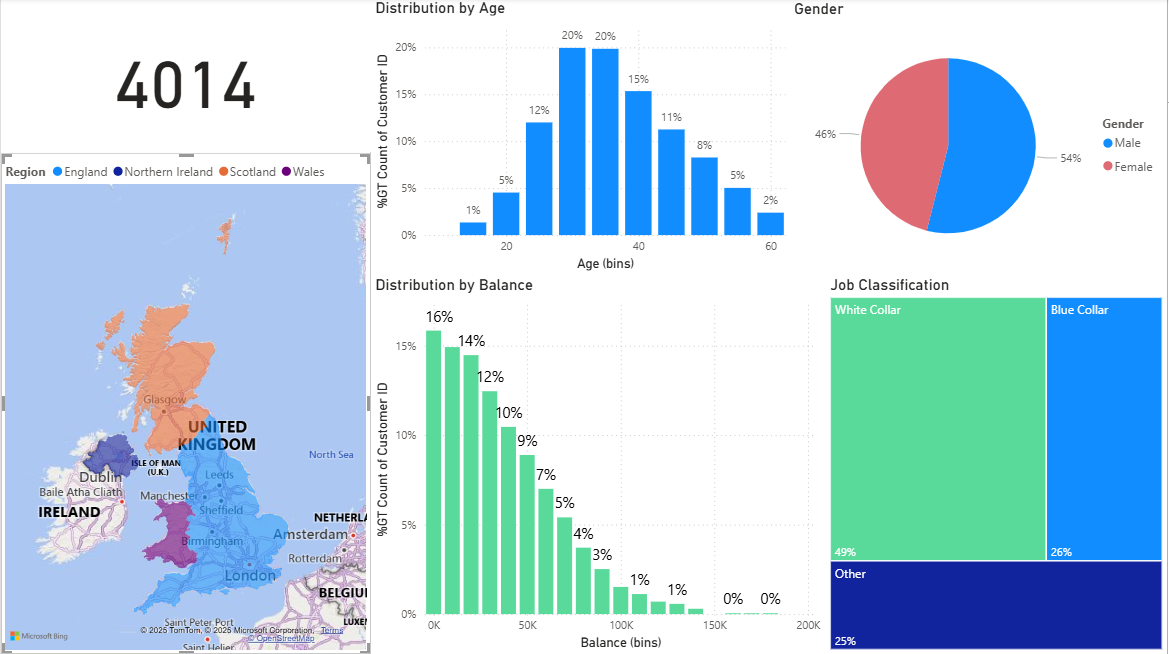

This screenshot's page, from the dashboard's own definition file:
{"tool":"powerbi","page":{"name":"BI report","canvas":[1280,720],"ordinal":5},"visuals":[{"type":"filledMap","fields":{"Series":["S05-CreatingInteractiveBIReport UK-Bank-Customers.Region"],"Category":["S05-CreatingInteractiveBIReport UK-Bank-Customers.Region"]},"box":[0,170,405.7,550],"z":0},{"type":"card","fields":{"Values":["CountNonNull(S05-CreatingInteractiveBIReport UK-Bank-Customers.Customer ID)"]},"box":[0,0,405.7,170],"z":1000},{"type":"pieChart","title":"Gender","fields":{"Category":["S05-CreatingInteractiveBIReport UK-Bank-Customers.Gender"],"Y":["CountNonNull(S05-CreatingInteractiveBIReport UK-Bank-Customers.Customer ID)"]},"box":[865.7,1.4,414.3,302.9],"z":2000},{"type":"columnChart","title":"Distribution by Age","fields":{"Category":["S05-CreatingInteractiveBIReport UK-Bank-Customers.Age (bins)"],"Y":["CountNonNull(S05-CreatingInteractiveBIReport UK-Bank-Customers.Customer ID)"]},"box":[405.7,0,460,304.3],"z":3000},{"type":"columnChart","title":"Distribution by Balance","fields":{"Category":["S05-CreatingInteractiveBIReport UK-Bank-Customers.Balance (bins)"],"Y":["CountNonNull(S05-CreatingInteractiveBIReport UK-Bank-Customers.Customer ID)"]},"box":[405.7,304.3,500,415.7],"z":4000},{"type":"treemap","title":"Job Classification","fields":{"Group":["S05-CreatingInteractiveBIReport UK-Bank-Customers.Job Classification"],"Values":["CountNonNull(S05-CreatingInteractiveBIReport UK-Bank-Customers.Customer ID)"]},"box":[905.7,304.3,374.3,415.7],"z":5000}]}

Visuals, with their boxes in screenshot pixels (x1, y1, x2, y2), scaled from the page's 1280x720 canvas onto the 1169x654 screenshot:
filledMap - S05-CreatingInteractiveBIReport UK-Bank-Customers.Region x S05-CreatingInteractiveBIReport UK-Bank-Customers.Region: 0 154 371 653
card - CountNonNull(S05-CreatingInteractiveBIReport UK-Bank-Customers.Customer ID): 0 0 371 154
"Gender" pieChart: 791 1 1168 276
"Distribution by Age" columnChart: 371 0 791 276
"Distribution by Balance" columnChart: 371 276 827 653
"Job Classification" treemap: 827 276 1168 653
